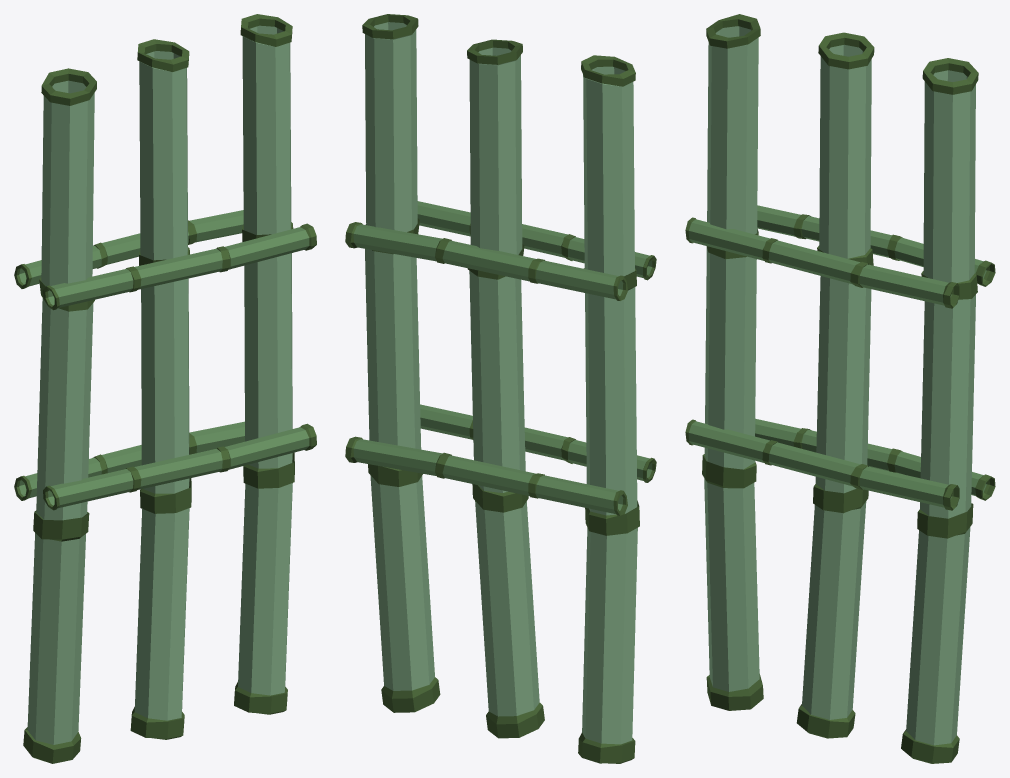
The model's file is BambooFence.fbx.
3 renders of one model, left to right at view 1: azimuth 30°, elevation 25°; view 2: azimuth 150°, elevation 25°; view 3: azimuth 330°, elevation 25°, orthographic.
Parts seen in each view (by area): view 1: polySurface185; view 2: polySurface185; view 3: polySurface185.
Boxes of the visible parts, box(x1,y1,x2,y2) form: polySurface185: box(14, 14, 316, 763); polySurface185: box(345, 14, 656, 763); polySurface185: box(685, 14, 995, 763).
Bounding box in the file's own units: 2.21 × 5.42 × 0.695.
